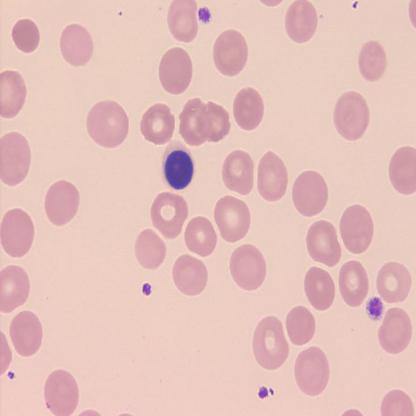NRC: (160, 138, 196, 192)
